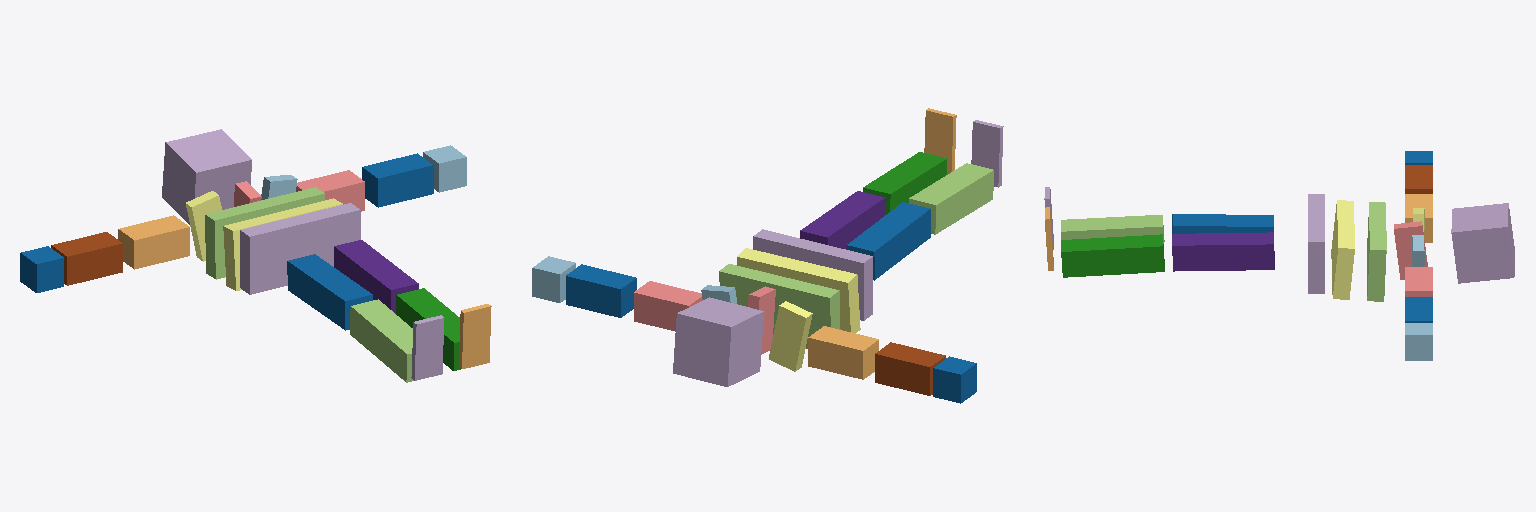
--- Render facts (derived) ---
Views: 3 orthographic renders of the robot side by side, from view 1: azimuth 30°, elevation 25°; view 2: azimuth 150°, elevation 25°; view 3: azimuth 270°, elevation 25°.
Model Armature with 55 links and 54 joints (54 revolute), rooted at base_link, posed all joints at 0.
Links seen in each view (by area): view 1: base_link, link_05_mixamorig:Head_Y, link_22_mixamorig:RightUpLeg_Y, link_23_mixamorig:RightLeg_Y, link_17_mixamorig:LeftUpLeg_Y, link_11_mixamorig:LeftForeArm_Y, link_14_mixamorig:RightArm_Y, link_02_mixamorig:Spine1_Y, link_15_mixamorig:RightForeArm_Y, link_18_mixamorig:LeftLeg_Y, link_24_mixamorig:RightFoot_Y, link_19_mixamorig:LeftFoot_Y (+6 smaller); view 2: link_05_mixamorig:Head_Y, link_02_mixamorig:Spine1_Y, link_22_mixamorig:RightUpLeg_Y, link_23_mixamorig:RightLeg_Y, base_link, link_01_mixamorig:Spine_Y, link_11_mixamorig:LeftForeArm_Y, link_14_mixamorig:RightArm_Y, link_17_mixamorig:LeftUpLeg_Y, link_15_mixamorig:RightForeArm_Y, link_18_mixamorig:LeftLeg_Y, link_10_mixamorig:LeftArm_Y (+6 smaller); view 3: link_05_mixamorig:Head_Y, link_18_mixamorig:LeftLeg_Y, link_17_mixamorig:LeftUpLeg_Y, link_23_mixamorig:RightLeg_Y, link_01_mixamorig:Spine_Y, link_22_mixamorig:RightUpLeg_Y, link_02_mixamorig:Spine1_Y, base_link, link_12_mixamorig:LeftHand_Y, link_03_mixamorig:Spine2_Y, link_10_mixamorig:LeftArm_Y, link_15_mixamorig:RightForeArm_Y (+2 smaller).
Link boxes in pixels (x1,y1,x2,y2): base_link: (240,203,360,294); link_05_mixamorig:Head_Y: (162,129,251,224); link_22_mixamorig:RightUpLeg_Y: (287,254,372,330); link_23_mixamorig:RightLeg_Y: (350,299,413,382); link_17_mixamorig:LeftUpLeg_Y: (334,240,418,313); link_11_mixamorig:LeftForeArm_Y: (362,153,433,207); link_14_mixamorig:RightArm_Y: (118,215,189,269); link_02_mixamorig:Spine1_Y: (205,187,324,279); link_15_mixamorig:RightForeArm_Y: (51,232,122,285); link_18_mixamorig:LeftLeg_Y: (396,288,460,370); link_24_mixamorig:RightFoot_Y: (411,315,443,380); link_19_mixamorig:LeftFoot_Y: (459,304,491,368); link_05_mixamorig:Head_Y: (673,297,763,386); link_02_mixamorig:Spine1_Y: (719,264,840,348); link_22_mixamorig:RightUpLeg_Y: (847,202,930,280); link_23_mixamorig:RightLeg_Y: (909,163,993,234); base_link: (753,229,872,320); link_01_mixamorig:Spine_Y: (737,248,860,332); link_11_mixamorig:LeftForeArm_Y: (566,264,636,317); link_14_mixamorig:RightArm_Y: (808,326,878,379); link_17_mixamorig:LeftUpLeg_Y: (800,191,884,249); link_15_mixamorig:RightForeArm_Y: (875,342,945,395); link_18_mixamorig:LeftLeg_Y: (863,152,946,214); link_10_mixamorig:LeftArm_Y: (634,281,702,331); link_05_mixamorig:Head_Y: (1451,203,1514,283); link_18_mixamorig:LeftLeg_Y: (1061,234,1164,277); link_17_mixamorig:LeftUpLeg_Y: (1172,232,1274,271); link_23_mixamorig:RightLeg_Y: (1061,215,1164,243); link_01_mixamorig:Spine_Y: (1331,200,1354,299); link_22_mixamorig:RightUpLeg_Y: (1172,214,1273,233); link_02_mixamorig:Spine1_Y: (1367,202,1386,301); base_link: (1308,194,1324,293); link_12_mixamorig:LeftHand_Y: (1405,323,1432,360); link_03_mixamorig:Spine2_Y: (1394,221,1427,279); link_10_mixamorig:LeftArm_Y: (1405,267,1432,296); link_15_mixamorig:RightForeArm_Y: (1405,165,1432,193).
Size in the robot's own frame: 0.7751 by 0.8302 by 0.1525 metres.
Geometry: primitives only (box / cylinder / sphere), no mesh files.

robot.urdf — Armature:
<?xml version='1.0' encoding='UTF-8'?>
<robot name="Armature">
  <link name="base_link">
    <inertial>
      <origin xyz="0.0 0.0 0.0" rpy="0.0 -0.0 0.0"/>
      <mass value="1.0"/>
      <inertia ixx="1.0" ixy="0.0" ixz="0.0" iyy="1.0" iyz="0.0" izz="1.0"/>
    </inertial>
    <visual>
      <geometry>
        <box size="0.2  0.03 0.1 "/>
      </geometry>
      <material name="mat_col_(0.792156862745098, 0.6980392156862745, 0.8392156862745098)"/>
      <origin xyz="0.0 0.02750833198428154 0.0" rpy="0.0 0.0 0.0"/>
    </visual>
    <collision>
      <geometry>
        <box size="0.2  0.03 0.1 "/>
      </geometry>
      <origin xyz="0.0 0.02750833198428154 0.0" rpy="0.0 0.0 0.0"/>
    </collision>
  </link>
  <link name="link_01_mixamorig:Spine_R">
    <inertial>
      <origin xyz="0.0 0.0 0.0" rpy="0.0 -0.0 0.0"/>
      <mass value="1.0"/>
      <inertia ixx="1.0" ixy="0.0" ixz="0.0" iyy="1.0" iyz="0.0" izz="1.0"/>
    </inertial>
    <collision name="collision">
      <geometry>
        <sphere radius="0.05"/>
      </geometry>
      <origin xyz="0.0 0.0 0.0" rpy="0.0 -0.0 0.0"/>
    </collision>
  </link>
  <link name="link_01_mixamorig:Spine_P">
    <inertial>
      <origin xyz="0.0 0.0 0.0" rpy="0.0 -0.0 0.0"/>
      <mass value="1.0"/>
      <inertia ixx="1.0" ixy="0.0" ixz="0.0" iyy="1.0" iyz="0.0" izz="1.0"/>
    </inertial>
    <collision name="collision">
      <geometry>
        <sphere radius="0.05"/>
      </geometry>
      <origin xyz="0.0 0.0 0.0" rpy="0.0 -0.0 0.0"/>
    </collision>
  </link>
  <link name="link_01_mixamorig:Spine_Y">
    <inertial>
      <origin xyz="0.0 0.0 0.0" rpy="0.0 -0.0 0.0"/>
      <mass value="1.0"/>
      <inertia ixx="1.0" ixy="0.0" ixz="0.0" iyy="1.0" iyz="0.0" izz="1.0"/>
    </inertial>
    <visual>
      <geometry>
        <box size="0.2  0.03 0.1 "/>
      </geometry>
      <material name="mat_col_(1.0, 1.0, 0.6)"/>
      <origin xyz="0.0 0.02915237456560135 0.0" rpy="0.0 0.0 0.0"/>
    </visual>
    <collision>
      <geometry>
        <box size="0.2  0.03 0.1 "/>
      </geometry>
      <origin xyz="0.0 0.02915237456560135 0.0" rpy="0.0 0.0 0.0"/>
    </collision>
  </link>
  <link name="link_02_mixamorig:Spine1_R">
    <inertial>
      <origin xyz="0.0 0.0 0.0" rpy="0.0 -0.0 0.0"/>
      <mass value="1.0"/>
      <inertia ixx="1.0" ixy="0.0" ixz="0.0" iyy="1.0" iyz="0.0" izz="1.0"/>
    </inertial>
    <collision name="collision">
      <geometry>
        <sphere radius="0.05"/>
      </geometry>
      <origin xyz="0.0 0.0 0.0" rpy="0.0 -0.0 0.0"/>
    </collision>
  </link>
  <link name="link_02_mixamorig:Spine1_P">
    <inertial>
      <origin xyz="0.0 0.0 0.0" rpy="0.0 -0.0 0.0"/>
      <mass value="1.0"/>
      <inertia ixx="1.0" ixy="0.0" ixz="0.0" iyy="1.0" iyz="0.0" izz="1.0"/>
    </inertial>
    <collision name="collision">
      <geometry>
        <sphere radius="0.05"/>
      </geometry>
      <origin xyz="0.0 0.0 0.0" rpy="0.0 -0.0 0.0"/>
    </collision>
  </link>
  <link name="link_02_mixamorig:Spine1_Y">
    <inertial>
      <origin xyz="0.0 0.0 0.0" rpy="0.0 -0.0 0.0"/>
      <mass value="1.0"/>
      <inertia ixx="1.0" ixy="0.0" ixz="0.0" iyy="1.0" iyz="0.0" izz="1.0"/>
    </inertial>
    <visual>
      <geometry>
        <box size="0.2  0.03 0.1 "/>
      </geometry>
      <material name="mat_col_(0.6980392156862745, 0.8745098039215686, 0.5411764705882353)"/>
      <origin xyz="0.0 0.03435256764292717 0.0" rpy="0.0 0.0 0.0"/>
    </visual>
    <collision>
      <geometry>
        <box size="0.2  0.03 0.1 "/>
      </geometry>
      <origin xyz="0.0 0.03435256764292717 0.0" rpy="0.0 0.0 0.0"/>
    </collision>
  </link>
  <link name="link_03_mixamorig:Spine2_R">
    <inertial>
      <origin xyz="0.0 0.0 0.0" rpy="0.0 -0.0 0.0"/>
      <mass value="1.0"/>
      <inertia ixx="1.0" ixy="0.0" ixz="0.0" iyy="1.0" iyz="0.0" izz="1.0"/>
    </inertial>
    <collision name="collision">
      <geometry>
        <sphere radius="0.05"/>
      </geometry>
      <origin xyz="0.0 0.0 0.0" rpy="0.0 -0.0 0.0"/>
    </collision>
  </link>
  <link name="link_03_mixamorig:Spine2_P">
    <inertial>
      <origin xyz="0.0 0.0 0.0" rpy="0.0 -0.0 0.0"/>
      <mass value="1.0"/>
      <inertia ixx="1.0" ixy="0.0" ixz="0.0" iyy="1.0" iyz="0.0" izz="1.0"/>
    </inertial>
    <collision name="collision">
      <geometry>
        <sphere radius="0.05"/>
      </geometry>
      <origin xyz="0.0 0.0 0.0" rpy="0.0 -0.0 0.0"/>
    </collision>
  </link>
  <link name="link_03_mixamorig:Spine2_Y">
    <inertial>
      <origin xyz="0.0 0.0 0.0" rpy="0.0 -0.0 0.0"/>
      <mass value="1.0"/>
      <inertia ixx="1.0" ixy="0.0" ixz="0.0" iyy="1.0" iyz="0.0" izz="1.0"/>
    </inertial>
    <visual>
      <geometry>
        <box size="0.02 0.05 0.1 "/>
      </geometry>
      <material name="mat_col_(0.984313725490196, 0.6039215686274509, 0.6)"/>
      <origin xyz="0.0 0.03186781145632267 0.0" rpy="0.0 0.0 0.0"/>
    </visual>
    <collision>
      <geometry>
        <box size="0.02 0.05 0.1 "/>
      </geometry>
      <origin xyz="0.0 0.03186781145632267 0.0" rpy="0.0 0.0 0.0"/>
    </collision>
  </link>
  <link name="link_05_mixamorig:Head_R">
    <inertial>
      <origin xyz="0.0 0.0 0.0" rpy="0.0 -0.0 0.0"/>
      <mass value="1.0"/>
      <inertia ixx="1.0" ixy="0.0" ixz="0.0" iyy="1.0" iyz="0.0" izz="1.0"/>
    </inertial>
    <collision name="collision">
      <geometry>
        <sphere radius="0.05"/>
      </geometry>
      <origin xyz="0.0 0.0 0.0" rpy="0.0 -0.0 0.0"/>
    </collision>
  </link>
  <link name="link_05_mixamorig:Head_P">
    <inertial>
      <origin xyz="0.0 0.0 0.0" rpy="0.0 -0.0 0.0"/>
      <mass value="1.0"/>
      <inertia ixx="1.0" ixy="0.0" ixz="0.0" iyy="1.0" iyz="0.0" izz="1.0"/>
    </inertial>
    <collision name="collision">
      <geometry>
        <sphere radius="0.05"/>
      </geometry>
      <origin xyz="0.0 0.0 0.0" rpy="0.0 -0.0 0.0"/>
    </collision>
  </link>
  <link name="link_05_mixamorig:Head_Y">
    <inertial>
      <origin xyz="0.0 0.0 0.0" rpy="0.0 -0.0 0.0"/>
      <mass value="1.0"/>
      <inertia ixx="1.0" ixy="0.0" ixz="0.0" iyy="1.0" iyz="0.0" izz="1.0"/>
    </inertial>
    <visual>
      <geometry>
        <box size="0.1 0.1 0.1"/>
      </geometry>
      <material name="mat_col_(0.792156862745098, 0.6980392156862745, 0.8392156862745098)"/>
      <origin xyz="0.0 0.1 0.0" rpy="0.0 0.0 0.0"/>
    </visual>
    <collision>
      <geometry>
        <box size="0.1 0.1 0.1"/>
      </geometry>
      <origin xyz="0.0 0.1 0.0" rpy="0.0 0.0 0.0"/>
    </collision>
  </link>
  <link name="link_09_mixamorig:LeftShoulder_R">
    <inertial>
      <origin xyz="0.0 0.0 0.0" rpy="0.0 -0.0 0.0"/>
      <mass value="1.0"/>
      <inertia ixx="1.0" ixy="0.0" ixz="0.0" iyy="1.0" iyz="0.0" izz="1.0"/>
    </inertial>
    <collision name="collision">
      <geometry>
        <sphere radius="0.05"/>
      </geometry>
      <origin xyz="0.0 0.0 0.0" rpy="0.0 -0.0 0.0"/>
    </collision>
  </link>
  <link name="link_09_mixamorig:LeftShoulder_P">
    <inertial>
      <origin xyz="0.0 0.0 0.0" rpy="0.0 -0.0 0.0"/>
      <mass value="1.0"/>
      <inertia ixx="1.0" ixy="0.0" ixz="0.0" iyy="1.0" iyz="0.0" izz="1.0"/>
    </inertial>
    <collision name="collision">
      <geometry>
        <sphere radius="0.05"/>
      </geometry>
      <origin xyz="0.0 0.0 0.0" rpy="0.0 -0.0 0.0"/>
    </collision>
  </link>
  <link name="link_09_mixamorig:LeftShoulder_Y">
    <inertial>
      <origin xyz="0.0 0.0 0.0" rpy="0.0 -0.0 0.0"/>
      <mass value="1.0"/>
      <inertia ixx="1.0" ixy="0.0" ixz="0.0" iyy="1.0" iyz="0.0" izz="1.0"/>
    </inertial>
    <visual>
      <geometry>
        <box size="0.1  0.05 0.02"/>
      </geometry>
      <material name="mat_col_(0.6509803921568628, 0.807843137254902, 0.8901960784313725)"/>
      <origin xyz="0.0 0.032809560522437095 0.0" rpy="0.0 0.0 0.0"/>
    </visual>
    <collision>
      <geometry>
        <box size="0.1  0.05 0.02"/>
      </geometry>
      <origin xyz="0.0 0.032809560522437095 0.0" rpy="0.0 0.0 0.0"/>
    </collision>
  </link>
  <link name="link_10_mixamorig:LeftArm_R">
    <inertial>
      <origin xyz="0.0 0.0 0.0" rpy="0.0 -0.0 0.0"/>
      <mass value="1.0"/>
      <inertia ixx="1.0" ixy="0.0" ixz="0.0" iyy="1.0" iyz="0.0" izz="1.0"/>
    </inertial>
    <collision name="collision">
      <geometry>
        <sphere radius="0.05"/>
      </geometry>
      <origin xyz="0.0 0.0 0.0" rpy="0.0 -0.0 0.0"/>
    </collision>
  </link>
  <link name="link_10_mixamorig:LeftArm_P">
    <inertial>
      <origin xyz="0.0 0.0 0.0" rpy="0.0 -0.0 0.0"/>
      <mass value="1.0"/>
      <inertia ixx="1.0" ixy="0.0" ixz="0.0" iyy="1.0" iyz="0.0" izz="1.0"/>
    </inertial>
    <collision name="collision">
      <geometry>
        <sphere radius="0.05"/>
      </geometry>
      <origin xyz="0.0 0.0 0.0" rpy="0.0 -0.0 0.0"/>
    </collision>
  </link>
  <link name="link_10_mixamorig:LeftArm_Y">
    <inertial>
      <origin xyz="0.0 0.0 0.0" rpy="0.0 -0.0 0.0"/>
      <mass value="1.0"/>
      <inertia ixx="1.0" ixy="0.0" ixz="0.0" iyy="1.0" iyz="0.0" izz="1.0"/>
    </inertial>
    <visual>
      <geometry>
        <box size="0.05 0.1  0.05"/>
      </geometry>
      <material name="mat_col_(0.984313725490196, 0.6039215686274509, 0.6)"/>
      <origin xyz="0.0 0.06803949415683747 0.0" rpy="0.0 0.0 0.0"/>
    </visual>
    <collision>
      <geometry>
        <box size="0.05 0.1  0.05"/>
      </geometry>
      <origin xyz="0.0 0.06803949415683747 0.0" rpy="0.0 0.0 0.0"/>
    </collision>
  </link>
  <link name="link_11_mixamorig:LeftForeArm_R">
    <inertial>
      <origin xyz="0.0 0.0 0.0" rpy="0.0 -0.0 0.0"/>
      <mass value="1.0"/>
      <inertia ixx="1.0" ixy="0.0" ixz="0.0" iyy="1.0" iyz="0.0" izz="1.0"/>
    </inertial>
    <collision name="collision">
      <geometry>
        <sphere radius="0.05"/>
      </geometry>
      <origin xyz="0.0 0.0 0.0" rpy="0.0 -0.0 0.0"/>
    </collision>
  </link>
  <link name="link_11_mixamorig:LeftForeArm_P">
    <inertial>
      <origin xyz="0.0 0.0 0.0" rpy="0.0 -0.0 0.0"/>
      <mass value="1.0"/>
      <inertia ixx="1.0" ixy="0.0" ixz="0.0" iyy="1.0" iyz="0.0" izz="1.0"/>
    </inertial>
    <collision name="collision">
      <geometry>
        <sphere radius="0.05"/>
      </geometry>
      <origin xyz="0.0 0.0 0.0" rpy="0.0 -0.0 0.0"/>
    </collision>
  </link>
  <link name="link_11_mixamorig:LeftForeArm_Y">
    <inertial>
      <origin xyz="0.0 0.0 0.0" rpy="0.0 -0.0 0.0"/>
      <mass value="1.0"/>
      <inertia ixx="1.0" ixy="0.0" ixz="0.0" iyy="1.0" iyz="0.0" izz="1.0"/>
    </inertial>
    <visual>
      <geometry>
        <box size="0.05 0.1  0.05"/>
      </geometry>
      <material name="mat_col_(0.12156862745098039, 0.47058823529411764, 0.7058823529411765)"/>
      <origin xyz="0.0 0.06513388931751252 0.0" rpy="0.0 0.0 0.0"/>
    </visual>
    <collision>
      <geometry>
        <box size="0.05 0.1  0.05"/>
      </geometry>
      <origin xyz="0.0 0.06513388931751252 0.0" rpy="0.0 0.0 0.0"/>
    </collision>
  </link>
  <link name="link_12_mixamorig:LeftHand_R">
    <inertial>
      <origin xyz="0.0 0.0 0.0" rpy="0.0 -0.0 0.0"/>
      <mass value="1.0"/>
      <inertia ixx="1.0" ixy="0.0" ixz="0.0" iyy="1.0" iyz="0.0" izz="1.0"/>
    </inertial>
    <collision name="collision">
      <geometry>
        <sphere radius="0.05"/>
      </geometry>
      <origin xyz="0.0 0.0 0.0" rpy="0.0 -0.0 0.0"/>
    </collision>
  </link>
  <link name="link_12_mixamorig:LeftHand_P">
    <inertial>
      <origin xyz="0.0 0.0 0.0" rpy="0.0 -0.0 0.0"/>
      <mass value="1.0"/>
      <inertia ixx="1.0" ixy="0.0" ixz="0.0" iyy="1.0" iyz="0.0" izz="1.0"/>
    </inertial>
    <collision name="collision">
      <geometry>
        <sphere radius="0.05"/>
      </geometry>
      <origin xyz="0.0 0.0 0.0" rpy="0.0 -0.0 0.0"/>
    </collision>
  </link>
  <link name="link_12_mixamorig:LeftHand_Y">
    <inertial>
      <origin xyz="0.0 0.0 0.0" rpy="0.0 -0.0 0.0"/>
      <mass value="1.0"/>
      <inertia ixx="1.0" ixy="0.0" ixz="0.0" iyy="1.0" iyz="0.0" izz="1.0"/>
    </inertial>
    <visual>
      <geometry>
        <box size="0.05 0.05 0.05"/>
      </geometry>
      <material name="mat_col_(0.6509803921568628, 0.807843137254902, 0.8901960784313725)"/>
      <origin xyz="0.0 0.029438160583376886 0.0" rpy="0.0 0.0 0.0"/>
    </visual>
    <collision>
      <geometry>
        <box size="0.05 0.05 0.05"/>
      </geometry>
      <origin xyz="0.0 0.029438160583376886 0.0" rpy="0.0 0.0 0.0"/>
    </collision>
  </link>
  <link name="link_13_mixamorig:RightShoulder_R">
    <inertial>
      <origin xyz="0.0 0.0 0.0" rpy="0.0 -0.0 0.0"/>
      <mass value="1.0"/>
      <inertia ixx="1.0" ixy="0.0" ixz="0.0" iyy="1.0" iyz="0.0" izz="1.0"/>
    </inertial>
    <collision name="collision">
      <geometry>
        <sphere radius="0.05"/>
      </geometry>
      <origin xyz="0.0 0.0 0.0" rpy="0.0 -0.0 0.0"/>
    </collision>
  </link>
  <link name="link_13_mixamorig:RightShoulder_P">
    <inertial>
      <origin xyz="0.0 0.0 0.0" rpy="0.0 -0.0 0.0"/>
      <mass value="1.0"/>
      <inertia ixx="1.0" ixy="0.0" ixz="0.0" iyy="1.0" iyz="0.0" izz="1.0"/>
    </inertial>
    <collision name="collision">
      <geometry>
        <sphere radius="0.05"/>
      </geometry>
      <origin xyz="0.0 0.0 0.0" rpy="0.0 -0.0 0.0"/>
    </collision>
  </link>
  <link name="link_13_mixamorig:RightShoulder_Y">
    <inertial>
      <origin xyz="0.0 0.0 0.0" rpy="0.0 -0.0 0.0"/>
      <mass value="1.0"/>
      <inertia ixx="1.0" ixy="0.0" ixz="0.0" iyy="1.0" iyz="0.0" izz="1.0"/>
    </inertial>
    <visual>
      <geometry>
        <box size="0.1  0.05 0.02"/>
      </geometry>
      <material name="mat_col_(1.0, 1.0, 0.6)"/>
      <origin xyz="0.0 0.03319054014980793 0.0" rpy="0.0 0.0 0.0"/>
    </visual>
    <collision>
      <geometry>
        <box size="0.1  0.05 0.02"/>
      </geometry>
      <origin xyz="0.0 0.03319054014980793 0.0" rpy="0.0 0.0 0.0"/>
    </collision>
  </link>
  <link name="link_14_mixamorig:RightArm_R">
    <inertial>
      <origin xyz="0.0 0.0 0.0" rpy="0.0 -0.0 0.0"/>
      <mass value="1.0"/>
      <inertia ixx="1.0" ixy="0.0" ixz="0.0" iyy="1.0" iyz="0.0" izz="1.0"/>
    </inertial>
    <collision name="collision">
      <geometry>
        <sphere radius="0.05"/>
      </geometry>
      <origin xyz="0.0 0.0 0.0" rpy="0.0 -0.0 0.0"/>
    </collision>
  </link>
  <link name="link_14_mixamorig:RightArm_P">
    <inertial>
      <origin xyz="0.0 0.0 0.0" rpy="0.0 -0.0 0.0"/>
      <mass value="1.0"/>
      <inertia ixx="1.0" ixy="0.0" ixz="0.0" iyy="1.0" iyz="0.0" izz="1.0"/>
    </inertial>
    <collision name="collision">
      <geometry>
        <sphere radius="0.05"/>
      </geometry>
      <origin xyz="0.0 0.0 0.0" rpy="0.0 -0.0 0.0"/>
    </collision>
  </link>
  <link name="link_14_mixamorig:RightArm_Y">
    <inertial>
      <origin xyz="0.0 0.0 0.0" rpy="0.0 -0.0 0.0"/>
      <mass value="1.0"/>
      <inertia ixx="1.0" ixy="0.0" ixz="0.0" iyy="1.0" iyz="0.0" izz="1.0"/>
    </inertial>
    <visual>
      <geometry>
        <box size="0.05 0.1  0.05"/>
      </geometry>
      <material name="mat_col_(0.9921568627450981, 0.7490196078431373, 0.43529411764705883)"/>
      <origin xyz="0.0 0.06892214477062225 0.0" rpy="0.0 0.0 0.0"/>
    </visual>
    <collision>
      <geometry>
        <box size="0.05 0.1  0.05"/>
      </geometry>
      <origin xyz="0.0 0.06892214477062225 0.0" rpy="0.0 0.0 0.0"/>
    </collision>
  </link>
  <link name="link_15_mixamorig:RightForeArm_R">
    <inertial>
      <origin xyz="0.0 0.0 0.0" rpy="0.0 -0.0 0.0"/>
      <mass value="1.0"/>
      <inertia ixx="1.0" ixy="0.0" ixz="0.0" iyy="1.0" iyz="0.0" izz="1.0"/>
    </inertial>
    <collision name="collision">
      <geometry>
        <sphere radius="0.05"/>
      </geometry>
      <origin xyz="0.0 0.0 0.0" rpy="0.0 -0.0 0.0"/>
    </collision>
  </link>
  <link name="link_15_mixamorig:RightForeArm_P">
    <inertial>
      <origin xyz="0.0 0.0 0.0" rpy="0.0 -0.0 0.0"/>
      <mass value="1.0"/>
      <inertia ixx="1.0" ixy="0.0" ixz="0.0" iyy="1.0" iyz="0.0" izz="1.0"/>
    </inertial>
    <collision name="collision">
      <geometry>
        <sphere radius="0.05"/>
      </geometry>
      <origin xyz="0.0 0.0 0.0" rpy="0.0 -0.0 0.0"/>
    </collision>
  </link>
  <link name="link_15_mixamorig:RightForeArm_Y">
    <inertial>
      <origin xyz="0.0 0.0 0.0" rpy="0.0 -0.0 0.0"/>
      <mass value="1.0"/>
      <inertia ixx="1.0" ixy="0.0" ixz="0.0" iyy="1.0" iyz="0.0" izz="1.0"/>
    </inertial>
    <visual>
      <geometry>
        <box size="0.05 0.1  0.05"/>
      </geometry>
      <material name="mat_col_(0.6941176470588235, 0.34901960784313724, 0.1568627450980392)"/>
      <origin xyz="0.0 0.06209814637899399 0.0" rpy="0.0 0.0 0.0"/>
    </visual>
    <collision>
      <geometry>
        <box size="0.05 0.1  0.05"/>
      </geometry>
      <origin xyz="0.0 0.06209814637899399 0.0" rpy="0.0 0.0 0.0"/>
    </collision>
  </link>
  <link name="link_16_mixamorig:RightHand_R">
    <inertial>
      <origin xyz="0.0 0.0 0.0" rpy="0.0 -0.0 0.0"/>
      <mass value="1.0"/>
      <inertia ixx="1.0" ixy="0.0" ixz="0.0" iyy="1.0" iyz="0.0" izz="1.0"/>
    </inertial>
    <collision name="collision">
      <geometry>
        <sphere radius="0.05"/>
      </geometry>
      <origin xyz="0.0 0.0 0.0" rpy="0.0 -0.0 0.0"/>
    </collision>
  </link>
  <link name="link_16_mixamorig:RightHand_P">
    <inertial>
      <origin xyz="0.0 0.0 0.0" rpy="0.0 -0.0 0.0"/>
      <mass value="1.0"/>
      <inertia ixx="1.0" ixy="0.0" ixz="0.0" iyy="1.0" iyz="0.0" izz="1.0"/>
    </inertial>
    <collision name="collision">
      <geometry>
        <sphere radius="0.05"/>
      </geometry>
      <origin xyz="0.0 0.0 0.0" rpy="0.0 -0.0 0.0"/>
    </collision>
  </link>
  <link name="link_16_mixamorig:RightHand_Y">
    <inertial>
      <origin xyz="0.0 0.0 0.0" rpy="0.0 -0.0 0.0"/>
      <mass value="1.0"/>
      <inertia ixx="1.0" ixy="0.0" ixz="0.0" iyy="1.0" iyz="0.0" izz="1.0"/>
    </inertial>
    <visual>
      <geometry>
        <box size="0.05 0.05 0.05"/>
      </geometry>
      <material name="mat_col_(0.12156862745098039, 0.47058823529411764, 0.7058823529411765)"/>
      <origin xyz="0.0 0.027702159136533736 0.0" rpy="0.0 0.0 0.0"/>
    </visual>
    <collision>
      <geometry>
        <box size="0.05 0.05 0.05"/>
      </geometry>
      <origin xyz="0.0 0.027702159136533736 0.0" rpy="0.0 0.0 0.0"/>
    </collision>
  </link>
  <link name="link_17_mixamorig:LeftUpLeg_R">
    <inertial>
      <origin xyz="0.0 0.0 0.0" rpy="0.0 -0.0 0.0"/>
      <mass value="1.0"/>
      <inertia ixx="1.0" ixy="0.0" ixz="0.0" iyy="1.0" iyz="0.0" izz="1.0"/>
    </inertial>
    <collision name="collision">
      <geometry>
        <sphere radius="0.05"/>
      </geometry>
      <origin xyz="0.0 0.0 0.0" rpy="0.0 -0.0 0.0"/>
    </collision>
  </link>
  <link name="link_17_mixamorig:LeftUpLeg_P">
    <inertial>
      <origin xyz="0.0 0.0 0.0" rpy="0.0 -0.0 0.0"/>
      <mass value="1.0"/>
      <inertia ixx="1.0" ixy="0.0" ixz="0.0" iyy="1.0" iyz="0.0" izz="1.0"/>
    </inertial>
    <collision name="collision">
      <geometry>
        <sphere radius="0.05"/>
      </geometry>
      <origin xyz="0.0 0.0 0.0" rpy="0.0 -0.0 0.0"/>
    </collision>
  </link>
  <link name="link_17_mixamorig:LeftUpLeg_Y">
    <inertial>
      <origin xyz="0.0 0.0 0.0" rpy="0.0 -0.0 0.0"/>
      <mass value="1.0"/>
      <inertia ixx="1.0" ixy="0.0" ixz="0.0" iyy="1.0" iyz="0.0" izz="1.0"/>
    </inertial>
    <visual>
      <geometry>
        <box size="0.05      0.1792496 0.05     "/>
      </geometry>
      <material name="mat_col_(0.41568627450980394, 0.23921568627450981, 0.6039215686274509)"/>
      <origin xyz="0.0 0.10521172463893891 0.0" rpy="0.0 0.0 0.0"/>
    </visual>
    <collision>
      <geometry>
        <box size="0.05      0.1792496 0.05     "/>
      </geometry>
      <origin xyz="0.0 0.10521172463893891 0.0" rpy="0.0 0.0 0.0"/>
    </collision>
  </link>
  <link name="link_18_mixamorig:LeftLeg_R">
    <inertial>
      <origin xyz="0.0 0.0 0.0" rpy="0.0 -0.0 0.0"/>
      <mass value="1.0"/>
      <inertia ixx="1.0" ixy="0.0" ixz="0.0" iyy="1.0" iyz="0.0" izz="1.0"/>
    </inertial>
    <collision name="collision">
      <geometry>
        <sphere radius="0.05"/>
      </geometry>
      <origin xyz="0.0 0.0 0.0" rpy="0.0 -0.0 0.0"/>
    </collision>
  </link>
  <link name="link_18_mixamorig:LeftLeg_P">
    <inertial>
      <origin xyz="0.0 0.0 0.0" rpy="0.0 -0.0 0.0"/>
      <mass value="1.0"/>
      <inertia ixx="1.0" ixy="0.0" ixz="0.0" iyy="1.0" iyz="0.0" izz="1.0"/>
    </inertial>
    <collision name="collision">
      <geometry>
        <sphere radius="0.05"/>
      </geometry>
      <origin xyz="0.0 0.0 0.0" rpy="0.0 -0.0 0.0"/>
    </collision>
  </link>
  <link name="link_18_mixamorig:LeftLeg_Y">
    <inertial>
      <origin xyz="0.0 0.0 0.0" rpy="0.0 -0.0 0.0"/>
      <mass value="1.0"/>
      <inertia ixx="1.0" ixy="0.0" ixz="0.0" iyy="1.0" iyz="0.0" izz="1.0"/>
    </inertial>
    <visual>
      <geometry>
        <box size="0.05      0.1799341 0.05     "/>
      </geometry>
      <material name="mat_col_(0.2, 0.6274509803921569, 0.17254901960784313)"/>
      <origin xyz="0.0 0.10561349272727966 0.0" rpy="0.0 0.0 0.0"/>
    </visual>
    <collision>
      <geometry>
        <box size="0.05      0.1799341 0.05     "/>
      </geometry>
      <origin xyz="0.0 0.10561349272727966 0.0" rpy="0.0 0.0 0.0"/>
    </collision>
  </link>
  <link name="link_19_mixamorig:LeftFoot_R">
    <inertial>
      <origin xyz="0.0 0.0 0.0" rpy="0.0 -0.0 0.0"/>
      <mass value="1.0"/>
      <inertia ixx="1.0" ixy="0.0" ixz="0.0" iyy="1.0" iyz="0.0" izz="1.0"/>
    </inertial>
    <collision name="collision">
      <geometry>
        <sphere radius="0.05"/>
      </geometry>
      <origin xyz="0.0 0.0 0.0" rpy="0.0 -0.0 0.0"/>
    </collision>
  </link>
  <link name="link_19_mixamorig:LeftFoot_P">
    <inertial>
      <origin xyz="0.0 0.0 0.0" rpy="0.0 -0.0 0.0"/>
      <mass value="1.0"/>
      <inertia ixx="1.0" ixy="0.0" ixz="0.0" iyy="1.0" iyz="0.0" izz="1.0"/>
    </inertial>
    <collision name="collision">
      <geometry>
        <sphere radius="0.05"/>
      </geometry>
      <origin xyz="0.0 0.0 0.0" rpy="0.0 -0.0 0.0"/>
    </collision>
  </link>
  <link name="link_19_mixamorig:LeftFoot_Y">
    <inertial>
      <origin xyz="0.0 0.0 0.0" rpy="0.0 -0.0 0.0"/>
      <mass value="1.0"/>
      <inertia ixx="1.0" ixy="0.0" ixz="0.0" iyy="1.0" iyz="0.0" izz="1.0"/>
    </inertial>
    <visual>
      <geometry>
        <box size="0.05 0.1  0.01"/>
      </geometry>
      <material name="mat_col_(0.9921568627450981, 0.7490196078431373, 0.43529411764705883)"/>
      <origin xyz="0.0 0.04 -0.02" rpy="0.0 0.0 0.0"/>
    </visual>
    <collision>
      <geometry>
        <box size="0.05 0.1  0.01"/>
      </geometry>
      <origin xyz="0.0 0.04 -0.02" rpy="0.0 0.0 0.0"/>
    </collision>
  </link>
  <link name="link_22_mixamorig:RightUpLeg_R">
    <inertial>
      <origin xyz="0.0 0.0 0.0" rpy="0.0 -0.0 0.0"/>
      <mass value="1.0"/>
      <inertia ixx="1.0" ixy="0.0" ixz="0.0" iyy="1.0" iyz="0.0" izz="1.0"/>
    </inertial>
    <collision name="collision">
      <geometry>
        <sphere radius="0.05"/>
      </geometry>
      <origin xyz="0.0 0.0 0.0" rpy="0.0 -0.0 0.0"/>
    </collision>
  </link>
  <link name="link_22_mixamorig:RightUpLeg_P">
    <inertial>
      <origin xyz="0.0 0.0 0.0" rpy="0.0 -0.0 0.0"/>
      <mass value="1.0"/>
      <inertia ixx="1.0" ixy="0.0" ixz="0.0" iyy="1.0" iyz="0.0" izz="1.0"/>
    </inertial>
    <collision name="collision">
      <geometry>
        <sphere radius="0.05"/>
      </geometry>
      <origin xyz="0.0 0.0 0.0" rpy="0.0 -0.0 0.0"/>
    </collision>
  </link>
  <link name="link_22_mixamorig:RightUpLeg_Y">
    <inertial>
      <origin xyz="0.0 0.0 0.0" rpy="0.0 -0.0 0.0"/>
      <mass value="1.0"/>
      <inertia ixx="1.0" ixy="0.0" ixz="0.0" iyy="1.0" iyz="0.0" izz="1.0"/>
    </inertial>
    <visual>
      <geometry>
        <box size="0.05       0.17835384 0.05      "/>
      </geometry>
      <material name="mat_col_(0.12156862745098039, 0.47058823529411764, 0.7058823529411765)"/>
      <origin xyz="0.0 0.10468594998121261 0.0" rpy="0.0 0.0 0.0"/>
    </visual>
    <collision>
      <geometry>
        <box size="0.05       0.17835384 0.05      "/>
      </geometry>
      <origin xyz="0.0 0.10468594998121261 0.0" rpy="0.0 0.0 0.0"/>
    </collision>
  </link>
  <link name="link_23_mixamorig:RightLeg_R">
    <inertial>
      <origin xyz="0.0 0.0 0.0" rpy="0.0 -0.0 0.0"/>
      <mass value="1.0"/>
      <inertia ixx="1.0" ixy="0.0" ixz="0.0" iyy="1.0" iyz="0.0" izz="1.0"/>
    </inertial>
    <collision name="collision">
      <geometry>
        <sphere radius="0.05"/>
      </geometry>
      <origin xyz="0.0 0.0 0.0" rpy="0.0 -0.0 0.0"/>
    </collision>
  </link>
  <link name="link_23_mixamorig:RightLeg_P">
    <inertial>
      <origin xyz="0.0 0.0 0.0" rpy="0.0 -0.0 0.0"/>
      <mass value="1.0"/>
      <inertia ixx="1.0" ixy="0.0" ixz="0.0" iyy="1.0" iyz="0.0" izz="1.0"/>
    </inertial>
    <collision name="collision">
      <geometry>
        <sphere radius="0.05"/>
      </geometry>
      <origin xyz="0.0 0.0 0.0" rpy="0.0 -0.0 0.0"/>
    </collision>
  </link>
  <link name="link_23_mixamorig:RightLeg_Y">
    <inertial>
      <origin xyz="0.0 0.0 0.0" rpy="0.0 -0.0 0.0"/>
      <mass value="1.0"/>
      <inertia ixx="1.0" ixy="0.0" ixz="0.0" iyy="1.0" iyz="0.0" izz="1.0"/>
    </inertial>
    <visual>
      <geometry>
        <box size="0.05       0.17961507 0.05      "/>
      </geometry>
      <material name="mat_col_(0.6980392156862745, 0.8745098039215686, 0.5411764705882353)"/>
      <origin xyz="0.0 0.10542623966932296 0.0" rpy="0.0 0.0 0.0"/>
    </visual>
    <collision>
      <geometry>
        <box size="0.05       0.17961507 0.05      "/>
      </geometry>
      <origin xyz="0.0 0.10542623966932296 0.0" rpy="0.0 0.0 0.0"/>
    </collision>
  </link>
  <link name="link_24_mixamorig:RightFoot_R">
    <inertial>
      <origin xyz="0.0 0.0 0.0" rpy="0.0 -0.0 0.0"/>
      <mass value="1.0"/>
      <inertia ixx="1.0" ixy="0.0" ixz="0.0" iyy="1.0" iyz="0.0" izz="1.0"/>
    </inertial>
    <collision name="collision">
      <geometry>
        <sphere radius="0.05"/>
      </geometry>
      <origin xyz="0.0 0.0 0.0" rpy="0.0 -0.0 0.0"/>
    </collision>
  </link>
  <link name="link_24_mixamorig:RightFoot_P">
    <inertial>
      <origin xyz="0.0 0.0 0.0" rpy="0.0 -0.0 0.0"/>
      <mass value="1.0"/>
      <inertia ixx="1.0" ixy="0.0" ixz="0.0" iyy="1.0" iyz="0.0" izz="1.0"/>
    </inertial>
    <collision name="collision">
      <geometry>
        <sphere radius="0.05"/>
      </geometry>
      <origin xyz="0.0 0.0 0.0" rpy="0.0 -0.0 0.0"/>
    </collision>
  </link>
  <link name="link_24_mixamorig:RightFoot_Y">
    <inertial>
      <origin xyz="0.0 0.0 0.0" rpy="0.0 -0.0 0.0"/>
      <mass value="1.0"/>
      <inertia ixx="1.0" ixy="0.0" ixz="0.0" iyy="1.0" iyz="0.0" izz="1.0"/>
    </inertial>
    <visual>
      <geometry>
        <box size="0.05 0.1  0.01"/>
      </geometry>
      <material name="mat_col_(0.792156862745098, 0.6980392156862745, 0.8392156862745098)"/>
      <origin xyz="0.0 0.04 -0.02" rpy="0.0 0.0 0.0"/>
    </visual>
    <collision>
      <geometry>
        <box size="0.05 0.1  0.01"/>
      </geometry>
      <origin xyz="0.0 0.04 -0.02" rpy="0.0 0.0 0.0"/>
    </collision>
  </link>
  <joint name="joint_01_mixamorig:Spine_R" type="revolute">
    <limit effort="100.0" velocity="3.0" lower="-1.5707963267948966" upper="1.5707963267948966"/>
    <parent link="base_link"/>
    <child link="link_01_mixamorig:Spine_R"/>
    <axis xyz="1. 0. 0."/>
    <origin xyz="-0.000445 0.045266 -0.00889" rpy="-0.100091 -0.0 0.011507000000000002"/>
  </joint>
  <joint name="joint_01_mixamorig:Spine_P" type="revolute">
    <limit effort="100.0" velocity="3.0" lower="-1.5707963267948966" upper="1.5707963267948966"/>
    <parent link="link_01_mixamorig:Spine_R"/>
    <child link="link_01_mixamorig:Spine_P"/>
    <axis xyz="0. 1. 0."/>
    <origin xyz="0.0 0.0 0.0" rpy="0.0 0.0 0.0"/>
  </joint>
  <joint name="joint_01_mixamorig:Spine_Y" type="revolute">
    <limit effort="100.0" velocity="3.0" lower="-1.5707963267948966" upper="1.5707963267948966"/>
    <parent link="link_01_mixamorig:Spine_P"/>
    <child link="link_01_mixamorig:Spine_Y"/>
    <axis xyz="0. 0. 1."/>
    <origin xyz="0.0 0.0 0.0" rpy="0.0 0.0 0.0"/>
  </joint>
  <joint name="joint_02_mixamorig:Spine1_R" type="revolute">
    <limit effort="100.0" velocity="3.0" lower="-1.5707963267948966" upper="1.5707963267948966"/>
    <parent link="link_01_mixamorig:Spine_Y"/>
    <child link="link_02_mixamorig:Spine1_R"/>
    <axis xyz="1. 0. 0."/>
    <origin xyz="-0.0 0.053986 -0.0" rpy="0.057125 0.000758 -0.007545"/>
  </joint>
  <joint name="joint_02_mixamorig:Spine1_P" type="revolute">
    <limit effort="100.0" velocity="3.0" lower="-1.5707963267948966" upper="1.5707963267948966"/>
    <parent link="link_02_mixamorig:Spine1_R"/>
    <child link="link_02_mixamorig:Spine1_P"/>
    <axis xyz="0. 1. 0."/>
    <origin xyz="0.0 0.0 0.0" rpy="0.0 0.0 0.0"/>
  </joint>
  <joint name="joint_02_mixamorig:Spine1_Y" type="revolute">
    <limit effort="100.0" velocity="3.0" lower="-1.5707963267948966" upper="1.5707963267948966"/>
    <parent link="link_02_mixamorig:Spine1_P"/>
    <child link="link_02_mixamorig:Spine1_Y"/>
    <axis xyz="0. 0. 1."/>
    <origin xyz="0.0 0.0 0.0" rpy="0.0 0.0 0.0"/>
  </joint>
  <joint name="joint_03_mixamorig:Spine2_R" type="revolute">
    <limit effort="100.0" velocity="3.0" lower="-1.5707963267948966" upper="1.5707963267948966"/>
    <parent link="link_02_mixamorig:Spine1_Y"/>
    <child link="link_03_mixamorig:Spine2_R"/>
    <axis xyz="1. 0. 0."/>
    <origin xyz="0.0 0.063616 0.0" rpy="0.16345 0.000961 -0.022349"/>
  </joint>
  <joint name="joint_03_mixamorig:Spine2_P" type="revolute">
    <limit effort="100.0" velocity="3.0" lower="-1.5707963267948966" upper="1.5707963267948966"/>
    <parent link="link_03_mixamorig:Spine2_R"/>
    <child link="link_03_mixamorig:Spine2_P"/>
    <axis xyz="0. 1. 0."/>
    <origin xyz="0.0 0.0 0.0" rpy="0.0 0.0 0.0"/>
  </joint>
  <joint name="joint_03_mixamorig:Spine2_Y" type="revolute">
    <limit effort="100.0" velocity="3.0" lower="-1.5707963267948966" upper="1.5707963267948966"/>
    <parent link="link_03_mixamorig:Spine2_P"/>
    <child link="link_03_mixamorig:Spine2_Y"/>
    <axis xyz="0. 0. 1."/>
    <origin xyz="0.0 0.0 0.0" rpy="0.0 0.0 0.0"/>
  </joint>
  <joint name="joint_05_mixamorig:Head_R" type="revolute">
    <limit effort="100.0" velocity="3.0" lower="-1.5707963267948966" upper="1.5707963267948966"/>
    <parent link="link_03_mixamorig:Spine2_Y"/>
    <child link="link_05_mixamorig:Head_R"/>
    <axis xyz="1. 0. 0."/>
    <origin xyz="0.0 0.06 -0.0" rpy="0.0 0.0 2e-06"/>
  </joint>
  <joint name="joint_05_mixamorig:Head_P" type="revolute">
    <limit effort="100.0" velocity="3.0" lower="-1.5707963267948966" upper="1.5707963267948966"/>
    <parent link="link_05_mixamorig:Head_R"/>
    <child link="link_05_mixamorig:Head_P"/>
    <axis xyz="0. 1. 0."/>
    <origin xyz="0.0 0.0 0.0" rpy="0.0 0.0 0.0"/>
  </joint>
  <joint name="joint_05_mixamorig:Head_Y" type="revolute">
    <limit effort="100.0" velocity="3.0" lower="-1.5707963267948966" upper="1.5707963267948966"/>
    <parent link="link_05_mixamorig:Head_P"/>
    <child link="link_05_mixamorig:Head_Y"/>
    <axis xyz="0. 0. 1."/>
    <origin xyz="0.0 0.0 0.0" rpy="0.0 0.0 0.0"/>
  </joint>
  <joint name="joint_09_mixamorig:LeftShoulder_R" type="revolute">
    <limit effort="100.0" velocity="3.0" lower="-1.5707963267948966" upper="1.5707963267948966"/>
    <parent link="link_03_mixamorig:Spine2_Y"/>
    <child link="link_09_mixamorig:LeftShoulder_R"/>
    <axis xyz="1. 0. 0."/>
    <origin xyz="0.028806 0.044143 0.000821" rpy="-0.9181966535897931 1.3717626535897933 -2.450323653589793"/>
  </joint>
  <joint name="joint_09_mixamorig:LeftShoulder_P" type="revolute">
    <limit effort="100.0" velocity="3.0" lower="-1.5707963267948966" upper="1.5707963267948966"/>
    <parent link="link_09_mixamorig:LeftShoulder_R"/>
    <child link="link_09_mixamorig:LeftShoulder_P"/>
    <axis xyz="0. 1. 0."/>
    <origin xyz="0.0 0.0 0.0" rpy="0.0 0.0 0.0"/>
  </joint>
  <joint name="joint_09_mixamorig:LeftShoulder_Y" type="revolute">
    <limit effort="100.0" velocity="3.0" lower="-1.5707963267948966" upper="1.5707963267948966"/>
    <parent link="link_09_mixamorig:LeftShoulder_P"/>
    <child link="link_09_mixamorig:LeftShoulder_Y"/>
    <axis xyz="0. 0. 1."/>
    <origin xyz="0.0 0.0 0.0" rpy="0.0 0.0 0.0"/>
  </joint>
  <joint name="joint_10_mixamorig:LeftArm_R" type="revolute">
    <limit effort="100.0" velocity="3.0" lower="-1.5707963267948966" upper="1.5707963267948966"/>
    <parent link="link_09_mixamorig:LeftShoulder_Y"/>
    <child link="link_10_mixamorig:LeftArm_R"/>
    <axis xyz="1. 0. 0."/>
    <origin xyz="0.0 0.060758 0.0" rpy="0.029469 0.0 0.153105"/>
  </joint>
  <joint name="joint_10_mixamorig:LeftArm_P" type="revolute">
    <limit effort="100.0" velocity="3.0" lower="-1.5707963267948966" upper="1.5707963267948966"/>
    <parent link="link_10_mixamorig:LeftArm_R"/>
    <child link="link_10_mixamorig:LeftArm_P"/>
    <axis xyz="0. 1. 0."/>
    <origin xyz="0.0 0.0 0.0" rpy="0.0 0.0 0.0"/>
  </joint>
  <joint name="joint_10_mixamorig:LeftArm_Y" type="revolute">
    <limit effort="100.0" velocity="3.0" lower="-1.5707963267948966" upper="1.5707963267948966"/>
    <parent link="link_10_mixamorig:LeftArm_P"/>
    <child link="link_10_mixamorig:LeftArm_Y"/>
    <axis xyz="0. 0. 1."/>
    <origin xyz="0.0 0.0 0.0" rpy="0.0 0.0 0.0"/>
  </joint>
  <joint name="joint_11_mixamorig:LeftForeArm_R" type="revolute">
    <limit effort="100.0" velocity="3.0" lower="-1.5707963267948966" upper="1.5707963267948966"/>
    <parent link="link_10_mixamorig:LeftArm_Y"/>
    <child link="link_11_mixamorig:LeftForeArm_R"/>
    <axis xyz="1. 0. 0."/>
    <origin xyz="-0.0 0.125999 -0.0" rpy="2e-06 0.0 0.0"/>
  </joint>
  <joint name="joint_11_mixamorig:LeftForeArm_P" type="revolute">
    <limit effort="100.0" velocity="3.0" lower="-1.5707963267948966" upper="1.5707963267948966"/>
    <parent link="link_11_mixamorig:LeftForeArm_R"/>
    <child link="link_11_mixamorig:LeftForeArm_P"/>
    <axis xyz="0. 1. 0."/>
    <origin xyz="0.0 0.0 0.0" rpy="0.0 0.0 0.0"/>
  </joint>
  <joint name="joint_11_mixamorig:LeftForeArm_Y" type="revolute">
    <limit effort="100.0" velocity="3.0" lower="-1.5707963267948966" upper="1.5707963267948966"/>
    <parent link="link_11_mixamorig:LeftForeArm_P"/>
    <child link="link_11_mixamorig:LeftForeArm_Y"/>
    <axis xyz="0. 0. 1."/>
    <origin xyz="0.0 0.0 0.0" rpy="0.0 0.0 0.0"/>
  </joint>
  <joint name="joint_12_mixamorig:LeftHand_R" type="revolute">
    <limit effort="100.0" velocity="3.0" lower="-1.5707963267948966" upper="1.5707963267948966"/>
    <parent link="link_11_mixamorig:LeftForeArm_Y"/>
    <child link="link_12_mixamorig:LeftHand_R"/>
    <axis xyz="1. 0. 0."/>
    <origin xyz="-0.0 0.120618 -0.0" rpy="-2e-06 -0.0 -0.0"/>
  </joint>
  <joint name="joint_12_mixamorig:LeftHand_P" type="revolute">
    <limit effort="100.0" velocity="3.0" lower="-1.5707963267948966" upper="1.5707963267948966"/>
    <parent link="link_12_mixamorig:LeftHand_R"/>
    <child link="link_12_mixamorig:LeftHand_P"/>
    <axis xyz="0. 1. 0."/>
    <origin xyz="0.0 0.0 0.0" rpy="0.0 0.0 0.0"/>
  </joint>
  <joint name="joint_12_mixamorig:LeftHand_Y" type="revolute">
    <limit effort="100.0" velocity="3.0" lower="-1.5707963267948966" upper="1.5707963267948966"/>
    <parent link="link_12_mixamorig:LeftHand_P"/>
    <child link="link_12_mixamorig:LeftHand_Y"/>
    <axis xyz="0. 0. 1."/>
    <origin xyz="0.0 0.0 0.0" rpy="0.0 0.0 0.0"/>
  </joint>
  <joint name="joint_13_mixamorig:RightShoulder_R" type="revolute">
    <limit effort="100.0" velocity="3.0" lower="-1.5707963267948966" upper="1.5707963267948966"/>
    <parent link="link_03_mixamorig:Spine2_Y"/>
    <child link="link_13_mixamorig:RightShoulder_R"/>
    <axis xyz="1. 0. 0."/>
    <origin xyz="-0.029689 0.043663 -0.000266" rpy="-1.0298106535897933 -1.3352026535897932 2.6138416535897933"/>
  </joint>
  <joint name="joint_13_mixamorig:RightShoulder_P" type="revolute">
    <limit effort="100.0" velocity="3.0" lower="-1.5707963267948966" upper="1.5707963267948966"/>
    <parent link="link_13_mixamorig:RightShoulder_R"/>
    <child link="link_13_mixamorig:RightShoulder_P"/>
    <axis xyz="0. 1. 0."/>
    <origin xyz="0.0 0.0 0.0" rpy="0.0 0.0 0.0"/>
  </joint>
  <joint name="joint_13_mixamorig:RightShoulder_Y" type="revolute">
    <limit effort="100.0" velocity="3.0" lower="-1.5707963267948966" upper="1.5707963267948966"/>
    <parent link="link_13_mixamorig:RightShoulder_P"/>
    <child link="link_13_mixamorig:RightShoulder_Y"/>
    <axis xyz="0. 0. 1."/>
    <origin xyz="0.0 0.0 0.0" rpy="0.0 0.0 0.0"/>
  </joint>
  <joint name="joint_14_mixamorig:RightArm_R" type="revolute">
    <limit effort="100.0" velocity="3.0" lower="-1.5707963267948966" upper="1.5707963267948966"/>
    <parent link="link_13_mixamorig:RightShoulder_Y"/>
    <child link="link_14_mixamorig:RightArm_R"/>
    <axis xyz="1. 0. 0."/>
    <origin xyz="-0.0 0.061464 -0.0" rpy="0.017502 -1e-06 -0.203056"/>
  </joint>
  <joint name="joint_14_mixamorig:RightArm_P" type="revolute">
    <limit effort="100.0" velocity="3.0" lower="-1.5707963267948966" upper="1.5707963267948966"/>
    <parent link="link_14_mixamorig:RightArm_R"/>
    <child link="link_14_mixamorig:RightArm_P"/>
    <axis xyz="0. 1. 0."/>
    <origin xyz="0.0 0.0 0.0" rpy="0.0 0.0 0.0"/>
  </joint>
  <joint name="joint_14_mixamorig:RightArm_Y" type="revolute">
    <limit effort="100.0" velocity="3.0" lower="-1.5707963267948966" upper="1.5707963267948966"/>
    <parent link="link_14_mixamorig:RightArm_P"/>
    <child link="link_14_mixamorig:RightArm_Y"/>
    <axis xyz="0. 0. 1."/>
    <origin xyz="0.0 0.0 0.0" rpy="0.0 0.0 0.0"/>
  </joint>
  <joint name="joint_15_mixamorig:RightForeArm_R" type="revolute">
    <limit effort="100.0" velocity="3.0" lower="-1.5707963267948966" upper="1.5707963267948966"/>
    <parent link="link_14_mixamorig:RightArm_Y"/>
    <child link="link_15_mixamorig:RightForeArm_R"/>
    <axis xyz="1. 0. 0."/>
    <origin xyz="-0.0 0.127634 -0.0" rpy="-0.0 -0.0 -0.0"/>
  </joint>
  <joint name="joint_15_mixamorig:RightForeArm_P" type="revolute">
    <limit effort="100.0" velocity="3.0" lower="-1.5707963267948966" upper="1.5707963267948966"/>
    <parent link="link_15_mixamorig:RightForeArm_R"/>
    <child link="link_15_mixamorig:RightForeArm_P"/>
    <axis xyz="0. 1. 0."/>
    <origin xyz="0.0 0.0 0.0" rpy="0.0 0.0 0.0"/>
  </joint>
  <joint name="joint_15_mixamorig:RightForeArm_Y" type="revolute">
    <limit effort="100.0" velocity="3.0" lower="-1.5707963267948966" upper="1.5707963267948966"/>
    <parent link="link_15_mixamorig:RightForeArm_P"/>
    <child link="link_15_mixamorig:RightForeArm_Y"/>
    <axis xyz="0. 0. 1."/>
    <origin xyz="0.0 0.0 0.0" rpy="0.0 0.0 0.0"/>
  </joint>
  <joint name="joint_16_mixamorig:RightHand_R" type="revolute">
    <limit effort="100.0" velocity="3.0" lower="-1.5707963267948966" upper="1.5707963267948966"/>
    <parent link="link_15_mixamorig:RightForeArm_Y"/>
    <child link="link_16_mixamorig:RightHand_R"/>
    <axis xyz="1. 0. 0."/>
    <origin xyz="-0.0 0.114997 -0.0" rpy="-0.0 1e-06 -3e-06"/>
  </joint>
  <joint name="joint_16_mixamorig:RightHand_P" type="revolute">
    <limit effort="100.0" velocity="3.0" lower="-1.5707963267948966" upper="1.5707963267948966"/>
    <parent link="link_16_mixamorig:RightHand_R"/>
    <child link="link_16_mixamorig:RightHand_P"/>
    <axis xyz="0. 1. 0."/>
    <origin xyz="0.0 0.0 0.0" rpy="0.0 0.0 0.0"/>
  </joint>
  <joint name="joint_16_mixamorig:RightHand_Y" type="revolute">
    <limit effort="100.0" velocity="3.0" lower="-1.5707963267948966" upper="1.5707963267948966"/>
    <parent link="link_16_mixamorig:RightHand_P"/>
    <child link="link_16_mixamorig:RightHand_Y"/>
    <axis xyz="0. 0. 1."/>
    <origin xyz="0.0 0.0 0.0" rpy="0.0 0.0 0.0"/>
  </joint>
  <joint name="joint_17_mixamorig:LeftUpLeg_R" type="revolute">
    <limit effort="100.0" velocity="3.0" lower="-1.5707963267948966" upper="1.5707963267948966"/>
    <parent link="base_link"/>
    <child link="link_17_mixamorig:LeftUpLeg_R"/>
    <axis xyz="1. 0. 0."/>
    <origin xyz="0.042339 -0.031629 0.006084" rpy="-0.017724 -8.4e-05 3.136825"/>
  </joint>
  <joint name="joint_17_mixamorig:LeftUpLeg_P" type="revolute">
    <limit effort="100.0" velocity="3.0" lower="-1.5707963267948966" upper="1.5707963267948966"/>
    <parent link="link_17_mixamorig:LeftUpLeg_R"/>
    <child link="link_17_mixamorig:LeftUpLeg_P"/>
    <axis xyz="0. 1. 0."/>
    <origin xyz="0.0 0.0 0.0" rpy="0.0 0.0 0.0"/>
  </joint>
  <joint name="joint_17_mixamorig:LeftUpLeg_Y" type="revolute">
    <limit effort="100.0" velocity="3.0" lower="-1.5707963267948966" upper="1.5707963267948966"/>
    <parent link="link_17_mixamorig:LeftUpLeg_P"/>
    <child link="link_17_mixamorig:LeftUpLeg_Y"/>
    <axis xyz="0. 0. 1."/>
    <origin xyz="0.0 0.0 0.0" rpy="0.0 0.0 0.0"/>
  </joint>
  <joint name="joint_18_mixamorig:LeftLeg_R" type="revolute">
    <limit effort="100.0" velocity="3.0" lower="-1.5707963267948966" upper="1.5707963267948966"/>
    <parent link="link_17_mixamorig:LeftUpLeg_Y"/>
    <child link="link_18_mixamorig:LeftLeg_R"/>
    <axis xyz="1. 0. 0."/>
    <origin xyz="0.0 0.194837 0.0" rpy="-0.042433 0.000222 0.010031"/>
  </joint>
  <joint name="joint_18_mixamorig:LeftLeg_P" type="revolute">
    <limit effort="100.0" velocity="3.0" lower="-1.5707963267948966" upper="1.5707963267948966"/>
    <parent link="link_18_mixamorig:LeftLeg_R"/>
    <child link="link_18_mixamorig:LeftLeg_P"/>
    <axis xyz="0. 1. 0."/>
    <origin xyz="0.0 0.0 0.0" rpy="0.0 0.0 0.0"/>
  </joint>
  <joint name="joint_18_mixamorig:LeftLeg_Y" type="revolute">
    <limit effort="100.0" velocity="3.0" lower="-1.5707963267948966" upper="1.5707963267948966"/>
    <parent link="link_18_mixamorig:LeftLeg_P"/>
    <child link="link_18_mixamorig:LeftLeg_Y"/>
    <axis xyz="0. 0. 1."/>
    <origin xyz="0.0 0.0 0.0" rpy="0.0 0.0 0.0"/>
  </joint>
  <joint name="joint_19_mixamorig:LeftFoot_R" type="revolute">
    <limit effort="100.0" velocity="3.0" lower="-1.5707963267948966" upper="1.5707963267948966"/>
    <parent link="link_18_mixamorig:LeftLeg_Y"/>
    <child link="link_19_mixamorig:LeftFoot_R"/>
    <axis xyz="1. 0. 0."/>
    <origin xyz="-0.0 0.195581 0.0" rpy="1.57 0.0 0.0"/>
  </joint>
  <joint name="joint_19_mixamorig:LeftFoot_P" type="revolute">
    <limit effort="100.0" velocity="3.0" lower="-1.5707963267948966" upper="1.5707963267948966"/>
    <parent link="link_19_mixamorig:LeftFoot_R"/>
    <child link="link_19_mixamorig:LeftFoot_P"/>
    <axis xyz="0. 1. 0."/>
    <origin xyz="0.0 0.0 0.0" rpy="0.0 0.0 0.0"/>
  </joint>
  <joint name="joint_19_mixamorig:LeftFoot_Y" type="revolute">
    <limit effort="100.0" velocity="3.0" lower="-1.5707963267948966" upper="1.5707963267948966"/>
    <parent link="link_19_mixamorig:LeftFoot_P"/>
    <child link="link_19_mixamorig:LeftFoot_Y"/>
    <axis xyz="0. 0. 1."/>
    <origin xyz="0.0 0.0 0.0" rpy="0.0 0.0 0.0"/>
  </joint>
  <joint name="joint_22_mixamorig:RightUpLeg_R" type="revolute">
    <limit effort="100.0" velocity="3.0" lower="-1.5707963267948966" upper="1.5707963267948966"/>
    <parent link="base_link"/>
    <child link="link_22_mixamorig:RightUpLeg_R"/>
    <axis xyz="1. 0. 0."/>
    <origin xyz="-0.042147 -0.032939 0.000367" rpy="0.01182 -7.9e-05 -3.135117"/>
  </joint>
  <joint name="joint_22_mixamorig:RightUpLeg_P" type="revolute">
    <limit effort="100.0" velocity="3.0" lower="-1.5707963267948966" upper="1.5707963267948966"/>
    <parent link="link_22_mixamorig:RightUpLeg_R"/>
    <child link="link_22_mixamorig:RightUpLeg_P"/>
    <axis xyz="0. 1. 0."/>
    <origin xyz="0.0 0.0 0.0" rpy="0.0 0.0 0.0"/>
  </joint>
  <joint name="joint_22_mixamorig:RightUpLeg_Y" type="revolute">
    <limit effort="100.0" velocity="3.0" lower="-1.5707963267948966" upper="1.5707963267948966"/>
    <parent link="link_22_mixamorig:RightUpLeg_P"/>
    <child link="link_22_mixamorig:RightUpLeg_Y"/>
    <axis xyz="0. 0. 1."/>
    <origin xyz="0.0 0.0 0.0" rpy="0.0 0.0 0.0"/>
  </joint>
  <joint name="joint_23_mixamorig:RightLeg_R" type="revolute">
    <limit effort="100.0" velocity="3.0" lower="-1.5707963267948966" upper="1.5707963267948966"/>
    <parent link="link_22_mixamorig:RightUpLeg_Y"/>
    <child link="link_23_mixamorig:RightLeg_R"/>
    <axis xyz="1. 0. 0."/>
    <origin xyz="-0.0 0.193863 -0.0" rpy="-0.072235 -0.000501 -0.013411"/>
  </joint>
  <joint name="joint_23_mixamorig:RightLeg_P" type="revolute">
    <limit effort="100.0" velocity="3.0" lower="-1.5707963267948966" upper="1.5707963267948966"/>
    <parent link="link_23_mixamorig:RightLeg_R"/>
    <child link="link_23_mixamorig:RightLeg_P"/>
    <axis xyz="0. 1. 0."/>
    <origin xyz="0.0 0.0 0.0" rpy="0.0 0.0 0.0"/>
  </joint>
  <joint name="joint_23_mixamorig:RightLeg_Y" type="revolute">
    <limit effort="100.0" velocity="3.0" lower="-1.5707963267948966" upper="1.5707963267948966"/>
    <parent link="link_23_mixamorig:RightLeg_P"/>
    <child link="link_23_mixamorig:RightLeg_Y"/>
    <axis xyz="0. 0. 1."/>
    <origin xyz="0.0 0.0 0.0" rpy="0.0 0.0 0.0"/>
  </joint>
  <joint name="joint_24_mixamorig:RightFoot_R" type="revolute">
    <limit effort="100.0" velocity="3.0" lower="-1.5707963267948966" upper="1.5707963267948966"/>
    <parent link="link_23_mixamorig:RightLeg_Y"/>
    <child link="link_24_mixamorig:RightFoot_R"/>
    <axis xyz="1. 0. 0."/>
    <origin xyz="0.0 0.195234 0.0" rpy="1.57 0.0 0.0"/>
  </joint>
  <joint name="joint_24_mixamorig:RightFoot_P" type="revolute">
    <limit effort="100.0" velocity="3.0" lower="-1.5707963267948966" upper="1.5707963267948966"/>
    <parent link="link_24_mixamorig:RightFoot_R"/>
    <child link="link_24_mixamorig:RightFoot_P"/>
    <axis xyz="0. 1. 0."/>
    <origin xyz="0.0 0.0 0.0" rpy="0.0 0.0 0.0"/>
  </joint>
  <joint name="joint_24_mixamorig:RightFoot_Y" type="revolute">
    <limit effort="100.0" velocity="3.0" lower="-1.5707963267948966" upper="1.5707963267948966"/>
    <parent link="link_24_mixamorig:RightFoot_P"/>
    <child link="link_24_mixamorig:RightFoot_Y"/>
    <axis xyz="0. 0. 1."/>
    <origin xyz="0.0 0.0 0.0" rpy="0.0 0.0 0.0"/>
  </joint>
  <material name="mat_col_(0.792156862745098, 0.6980392156862745, 0.8392156862745098)">
    <color rgba="0.79 0.7  0.84 1.  "/>
  </material>
  <material name="mat_col_(1.0, 1.0, 0.6)">
    <color rgba="1.  1.  0.6 1. "/>
  </material>
  <material name="mat_col_(0.6980392156862745, 0.8745098039215686, 0.5411764705882353)">
    <color rgba="0.7  0.87 0.54 1.  "/>
  </material>
  <material name="mat_col_(0.984313725490196, 0.6039215686274509, 0.6)">
    <color rgba="0.98 0.6  0.6  1.  "/>
  </material>
  <material name="mat_col_(0.6509803921568628, 0.807843137254902, 0.8901960784313725)">
    <color rgba="0.65 0.81 0.89 1.  "/>
  </material>
  <material name="mat_col_(0.12156862745098039, 0.47058823529411764, 0.7058823529411765)">
    <color rgba="0.12 0.47 0.71 1.  "/>
  </material>
  <material name="mat_col_(0.9921568627450981, 0.7490196078431373, 0.43529411764705883)">
    <color rgba="0.99 0.75 0.44 1.  "/>
  </material>
  <material name="mat_col_(0.6941176470588235, 0.34901960784313724, 0.1568627450980392)">
    <color rgba="0.69 0.35 0.16 1.  "/>
  </material>
  <material name="mat_col_(0.41568627450980394, 0.23921568627450981, 0.6039215686274509)">
    <color rgba="0.42 0.24 0.6  1.  "/>
  </material>
  <material name="mat_col_(0.2, 0.6274509803921569, 0.17254901960784313)">
    <color rgba="0.2  0.63 0.17 1.  "/>
  </material>
</robot>
